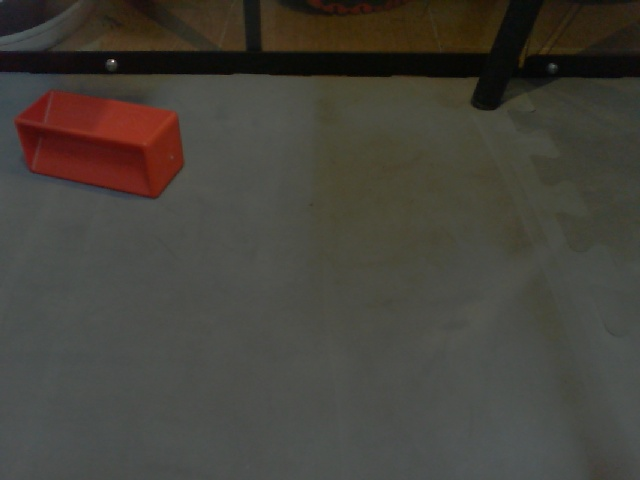RedSample: (11, 87, 185, 198)
